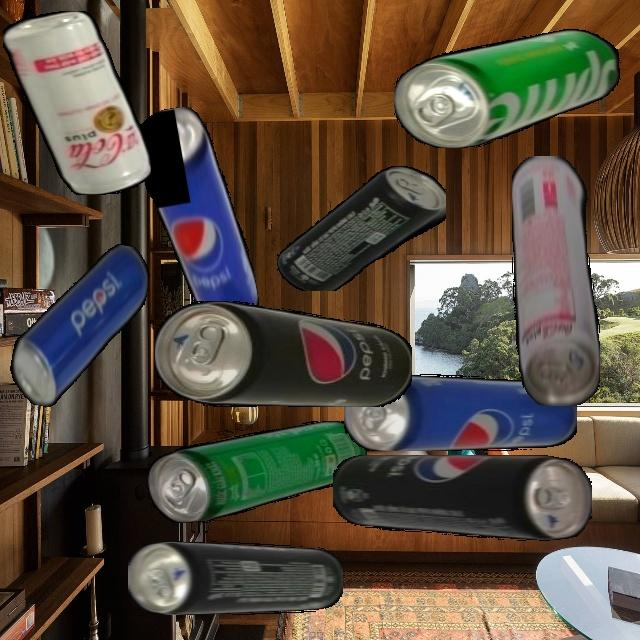debris: (131, 100, 262, 337), (5, 230, 154, 420), (155, 300, 412, 407), (2, 11, 151, 195), (394, 28, 621, 148), (148, 420, 367, 523), (332, 455, 592, 541), (511, 155, 600, 406), (277, 165, 446, 291), (344, 373, 577, 451), (128, 540, 343, 615)
